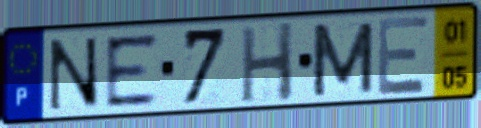7: (180, 25, 230, 108)
E: (375, 13, 432, 98), (102, 30, 160, 111)
H: (239, 19, 297, 105)
M: (309, 19, 377, 100)
N: (46, 35, 103, 114)
